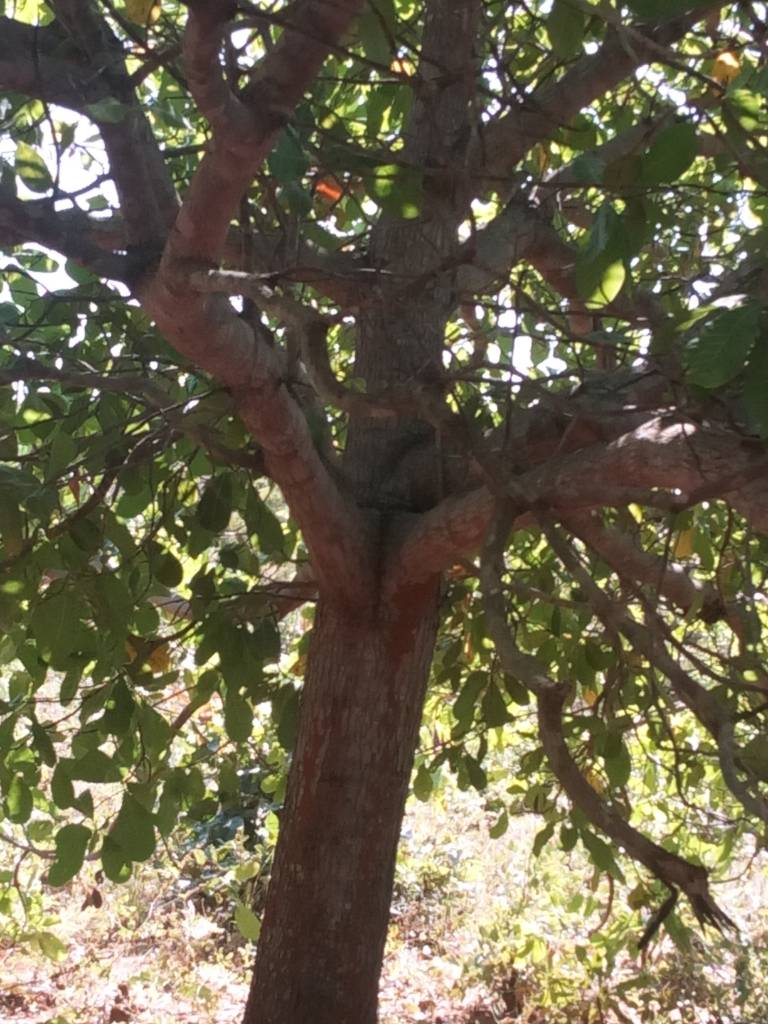Termites: (391, 575, 452, 642)
